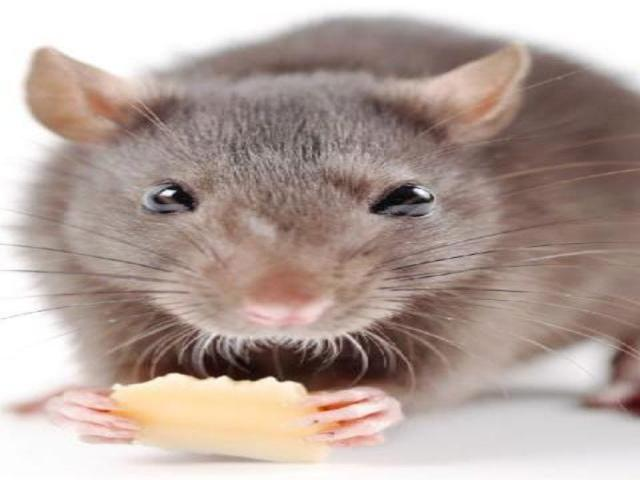Tikus: (25, 16, 640, 461)
